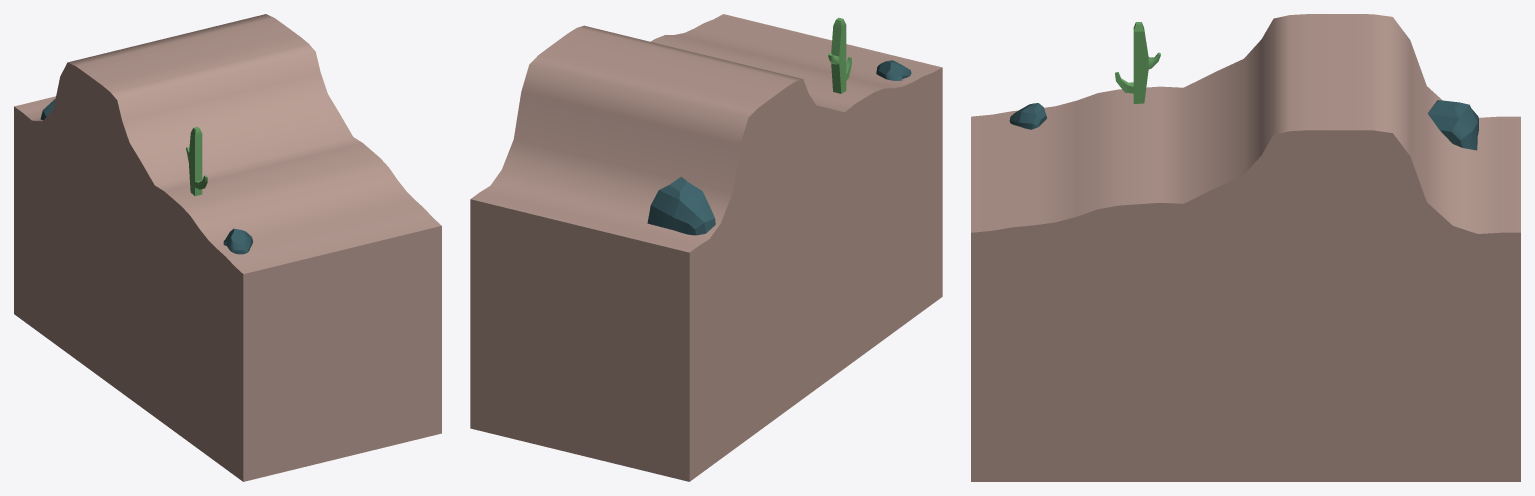
Rendered from New-Land-PLATEAU_LEFT.fbx.
3 views of the same model, side by side, from view 1: azimuth 30°, elevation 25°; view 2: azimuth 150°, elevation 25°; view 3: azimuth 270°, elevation 25° (orthographic). The views are drawn at different scales.
Visible parts, largest first — view 1: Land_Modules:Plateau_Right, pCube3, pCube5; view 2: Land_Modules:Plateau_Right, pCube4, pCube3, pCube5; view 3: Land_Modules:Plateau_Right, pCube4, pCube3, pCube5.
Part boxes in pixels (x1,y1,x2,y2): Land_Modules:Plateau_Right: (14, 14, 441, 481); pCube3: (186, 126, 207, 196); pCube5: (223, 228, 252, 254); Land_Modules:Plateau_Right: (470, 14, 942, 481); pCube4: (647, 176, 715, 235); pCube3: (828, 17, 851, 93); pCube5: (876, 60, 911, 80); Land_Modules:Plateau_Right: (971, 14, 1520, 481); pCube4: (1427, 100, 1478, 150); pCube3: (1115, 22, 1160, 103); pCube5: (1009, 103, 1046, 129).
Size of the model in its own units: 1000 by 1430 by 2000.
